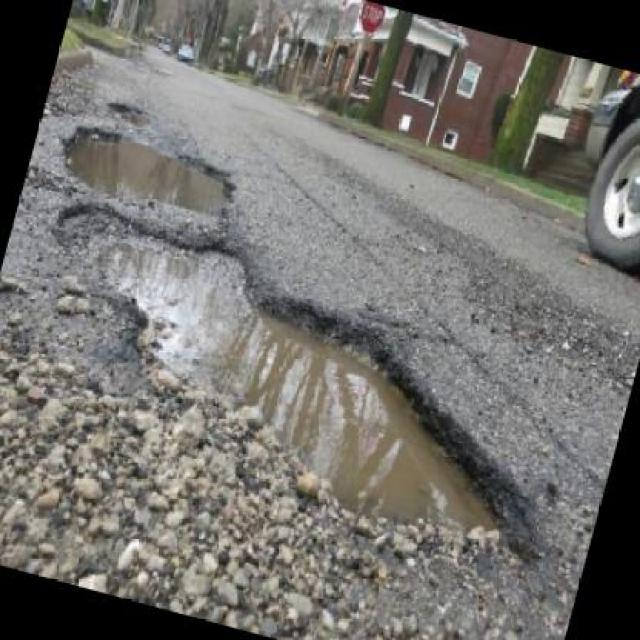pothole: (1, 192, 592, 583), (49, 113, 245, 229), (102, 91, 152, 127)
